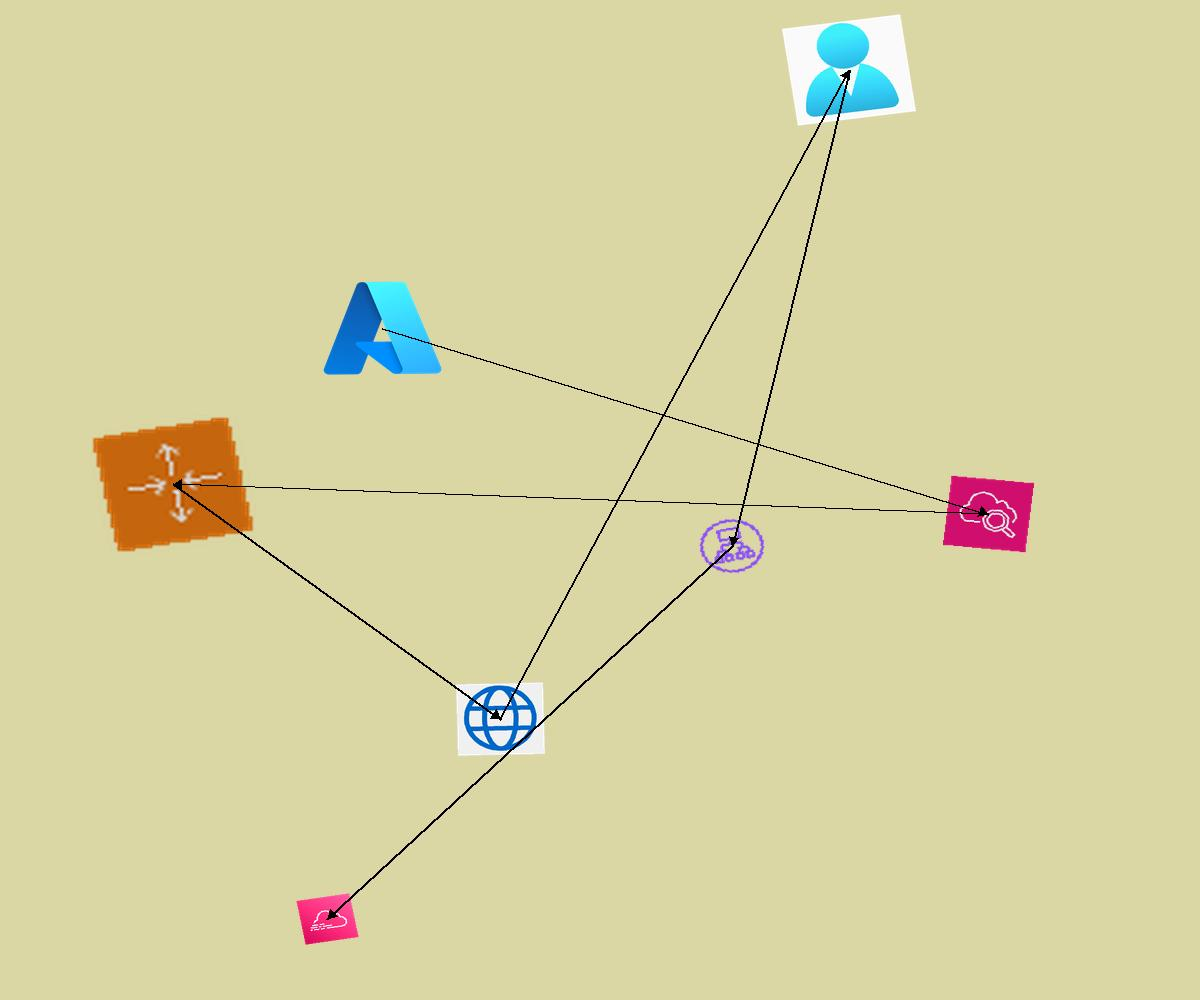AWS-CloudTrail: (296, 893, 359, 945)
AWS-CloudWatch: (942, 475, 1035, 553)
AWS-Res_Elastic-Load-Balancing_Application-Load-Balancer: (690, 511, 774, 581)
AWS-Scaling-group: (90, 415, 256, 554)
Azure_http: (456, 682, 545, 756)
Azure_services: (317, 274, 447, 382)
Azure_users: (782, 14, 916, 126)
